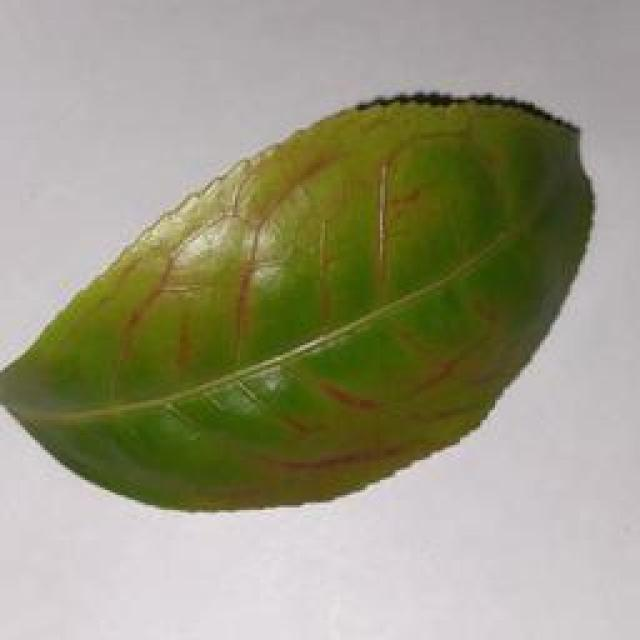Red Leaf Spot: (18, 82, 605, 533)
